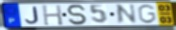5: (88, 4, 110, 26)
G: (136, 4, 157, 25)
H: (41, 5, 65, 26)
J: (24, 6, 40, 25)
N: (115, 3, 138, 25)
S: (65, 4, 89, 26)
